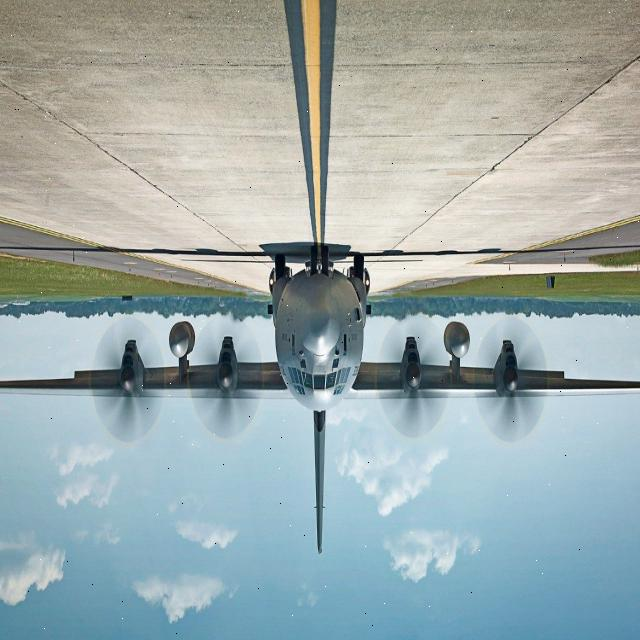C130: (0, 228, 634, 570)
